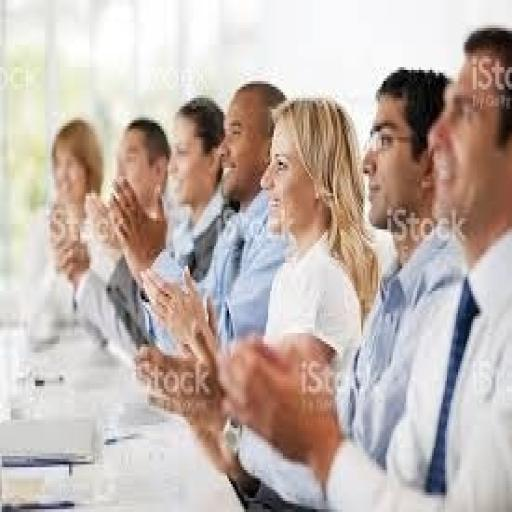clapping: (132, 22, 510, 510), (22, 114, 116, 350)
